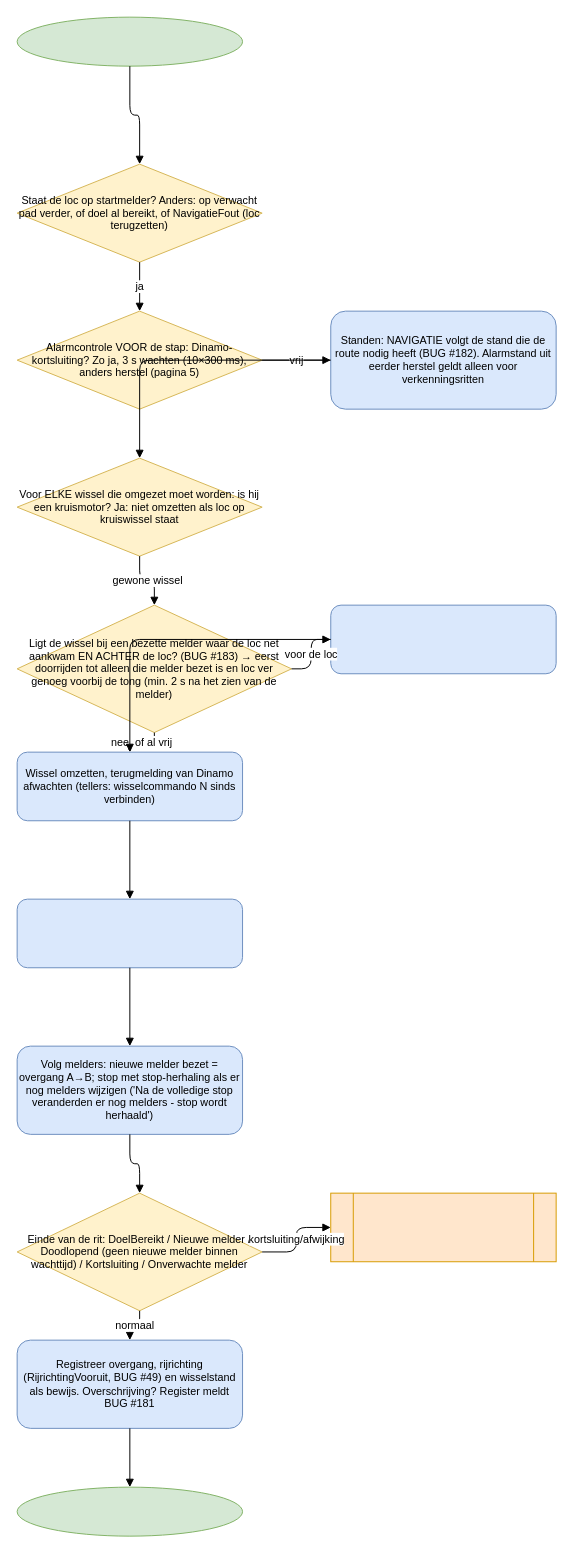
The diagram is 573 pixels wide and 1553 high, and some of its shapes have lost their labels. Each missing label, with the box of its shape:
Kortsluiting of onverwachte melder → pagina 5: (330, 1192, 556, 1262)
Rijcommando naar blokken (bekend blok of alle blokken), snelheid verkenning: (16, 898, 243, 968)
START rit van melder A, richting R, doel (navigatie of verkenning): (16, 16, 243, 66)
Verder met kies volgende opdracht: (16, 1486, 243, 1536)
Wissel VOOR de loc (verderop in de sectie): geen creep nodig, direct omzetten: (330, 604, 556, 674)
